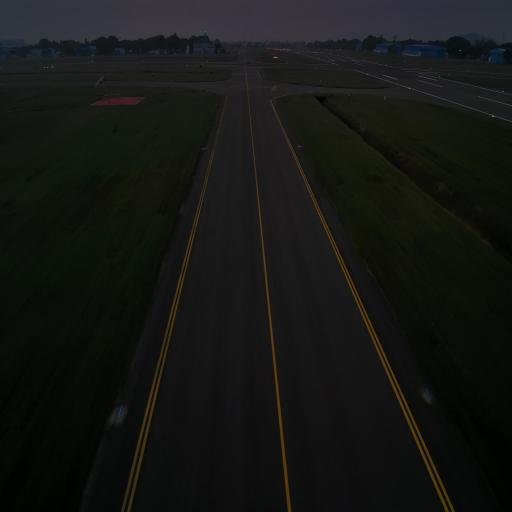on: (423, 381, 435, 404), (116, 402, 124, 421), (298, 143, 300, 146), (205, 146, 207, 148)
